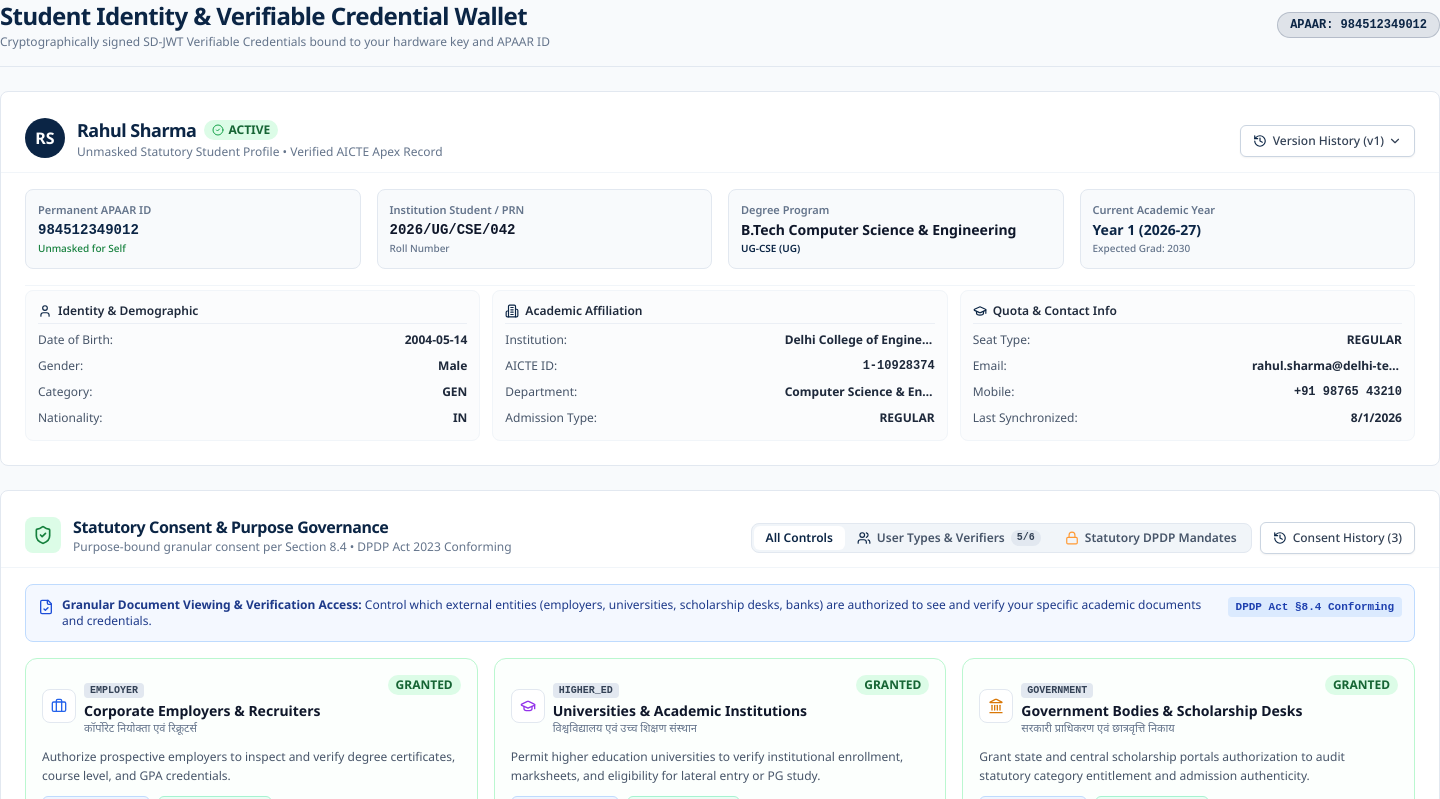
Scenario: Task A6: Trust UIs, Holder Key, Selective Disclosure & Verification › 3. Student Wallet UI (/student) › renders version history ledger and expands details
Note: Expand history
Click the button with test id "toggle-version-history-btn". click: (1327, 141)
box: [1240,125,1415,157]
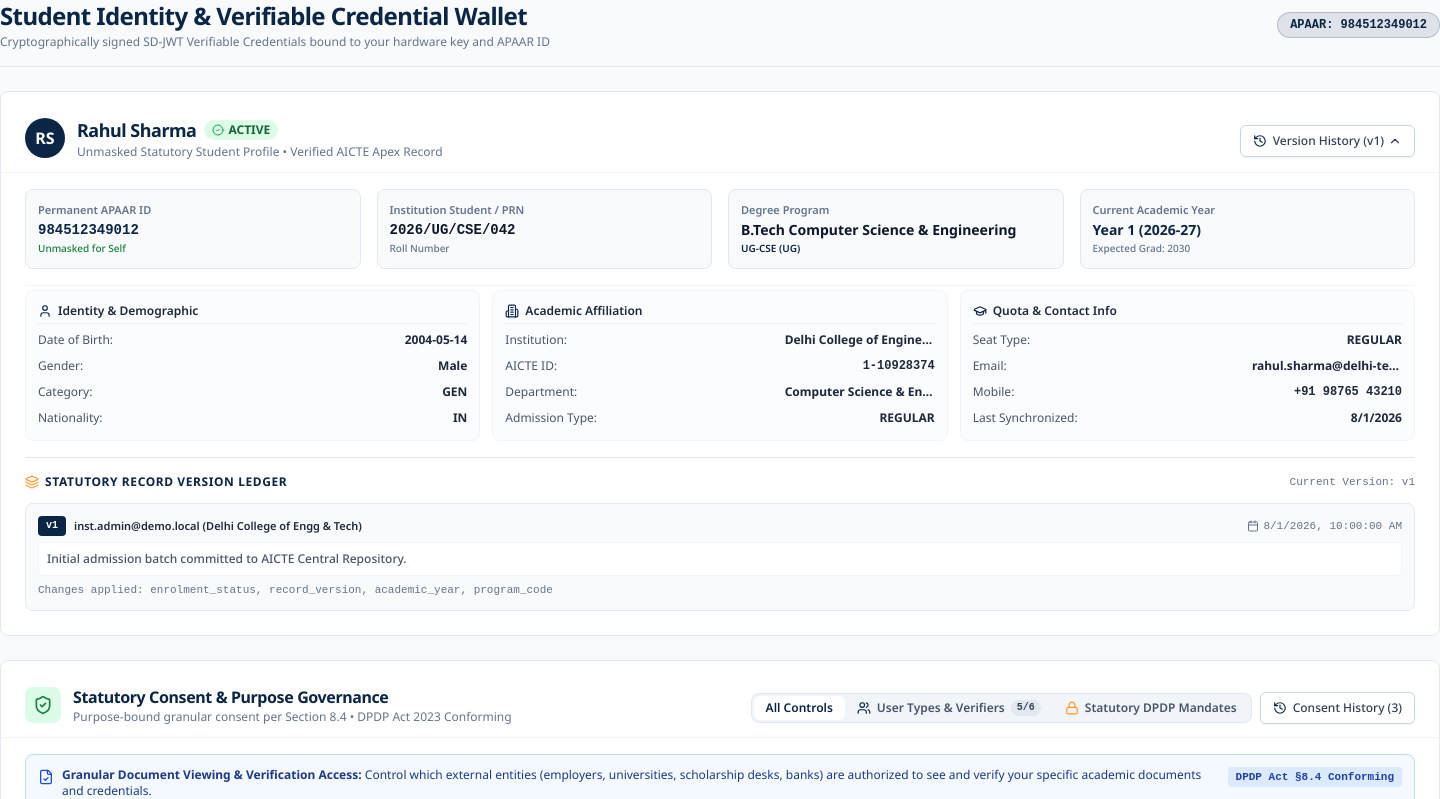
Now the text "Statutory Record Version Ledger" is shown, box [45,474,287,490]
Now the text "Initial admission batch committed" is shown, box [47,550,407,566]
